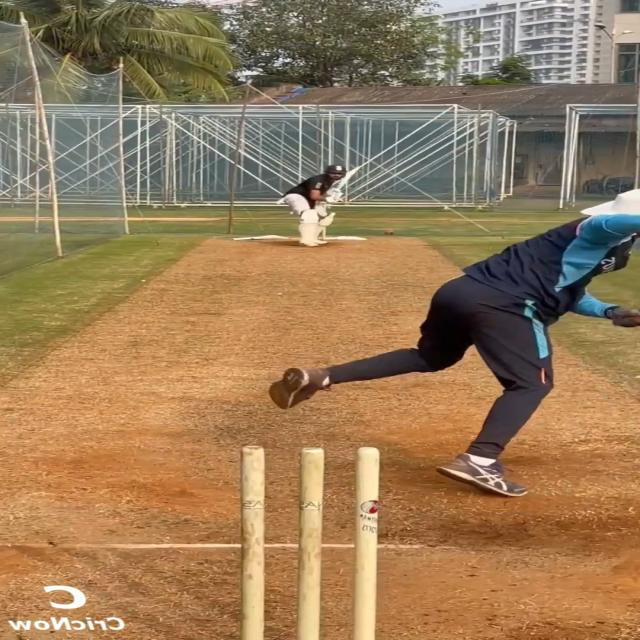ball: (384, 229, 395, 236)
stump: (239, 445, 382, 640)
